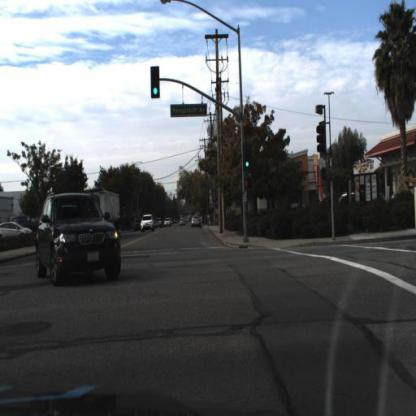car: (33, 188, 121, 288), (138, 212, 156, 232), (188, 211, 202, 230)
trafficLight-Green: (149, 64, 160, 100), (243, 143, 253, 176)
